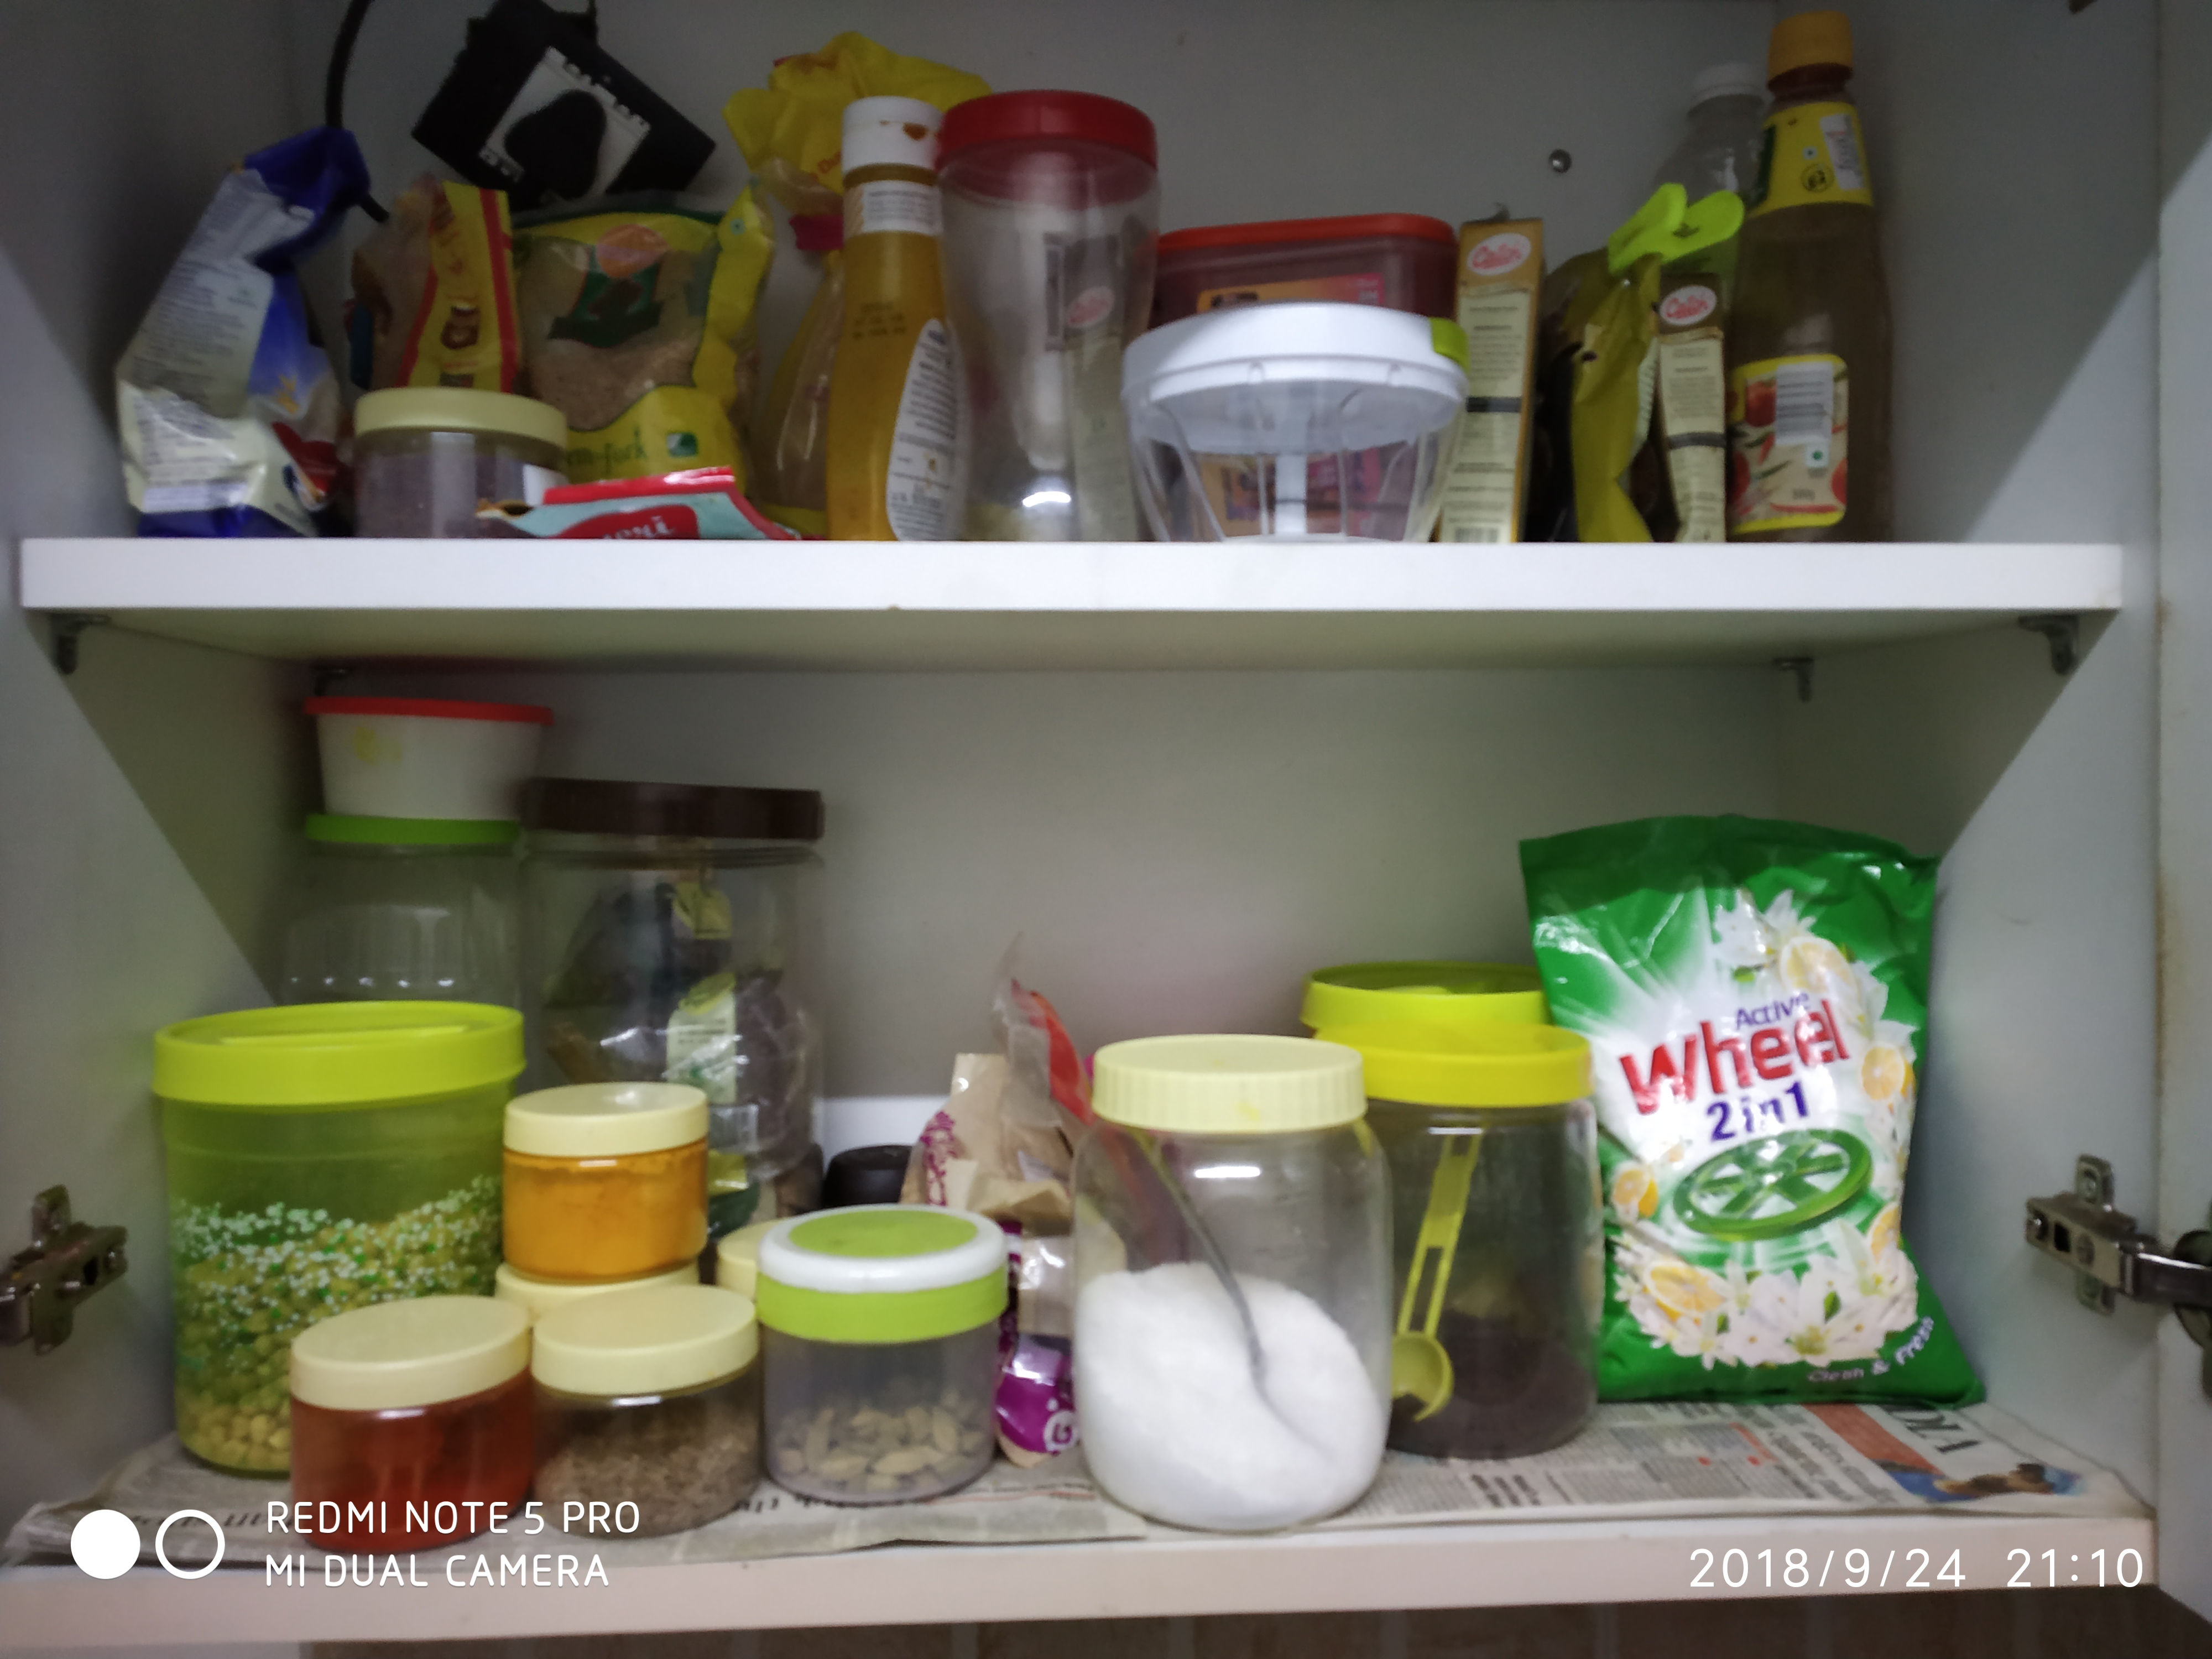detergent: (1563, 806, 1955, 1381)
